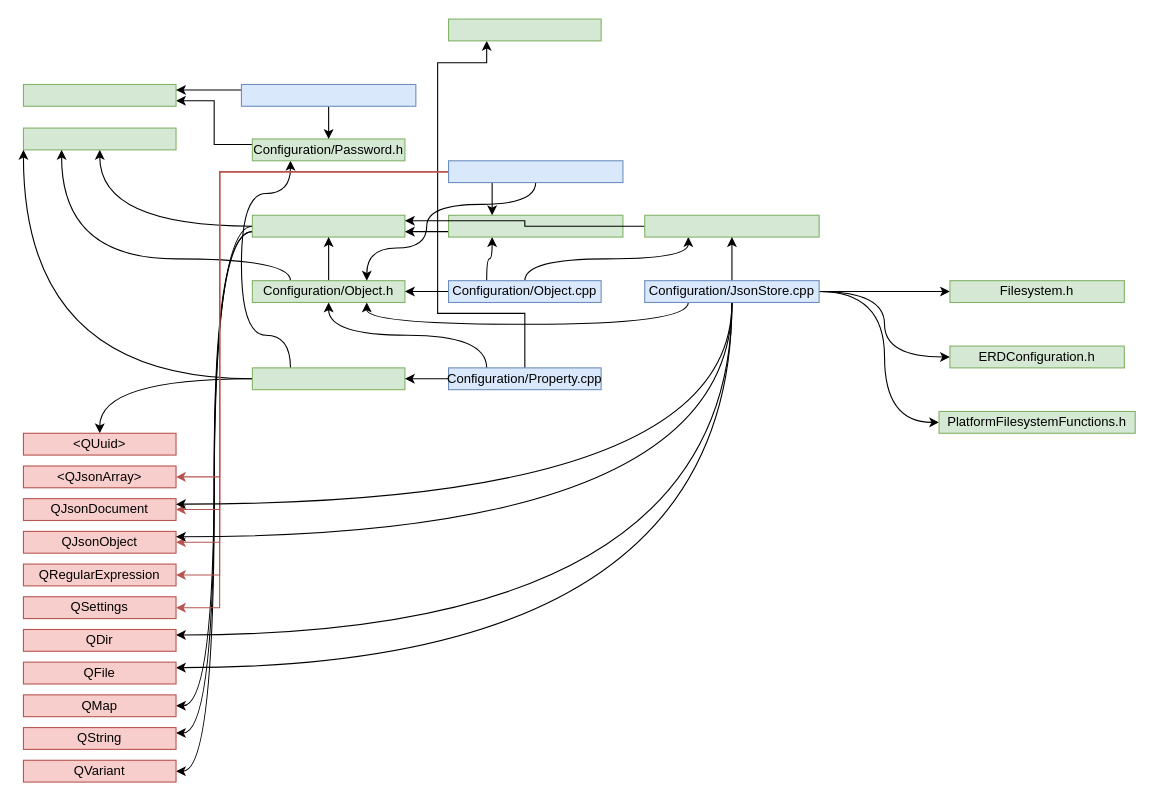
This 1154x801 diagram has some shape labels left out. Each missing label, with the centre of its shape:
Configuration/JsonStore.h: the point at 731,225
Configuration/LocalStore.cpp: the point at 535,171
Configuration/LocalStore.h: the point at 535,225
Configuration/Password.cpp: the point at 328,94
Configuration/Property.h: the point at 328,378
Configuration/Proxy.h: the point at 524,29
Configuration/Store.h: the point at 328,225
CryptoCore.h: the point at 99,94
ERDCore.h: the point at 99,138
